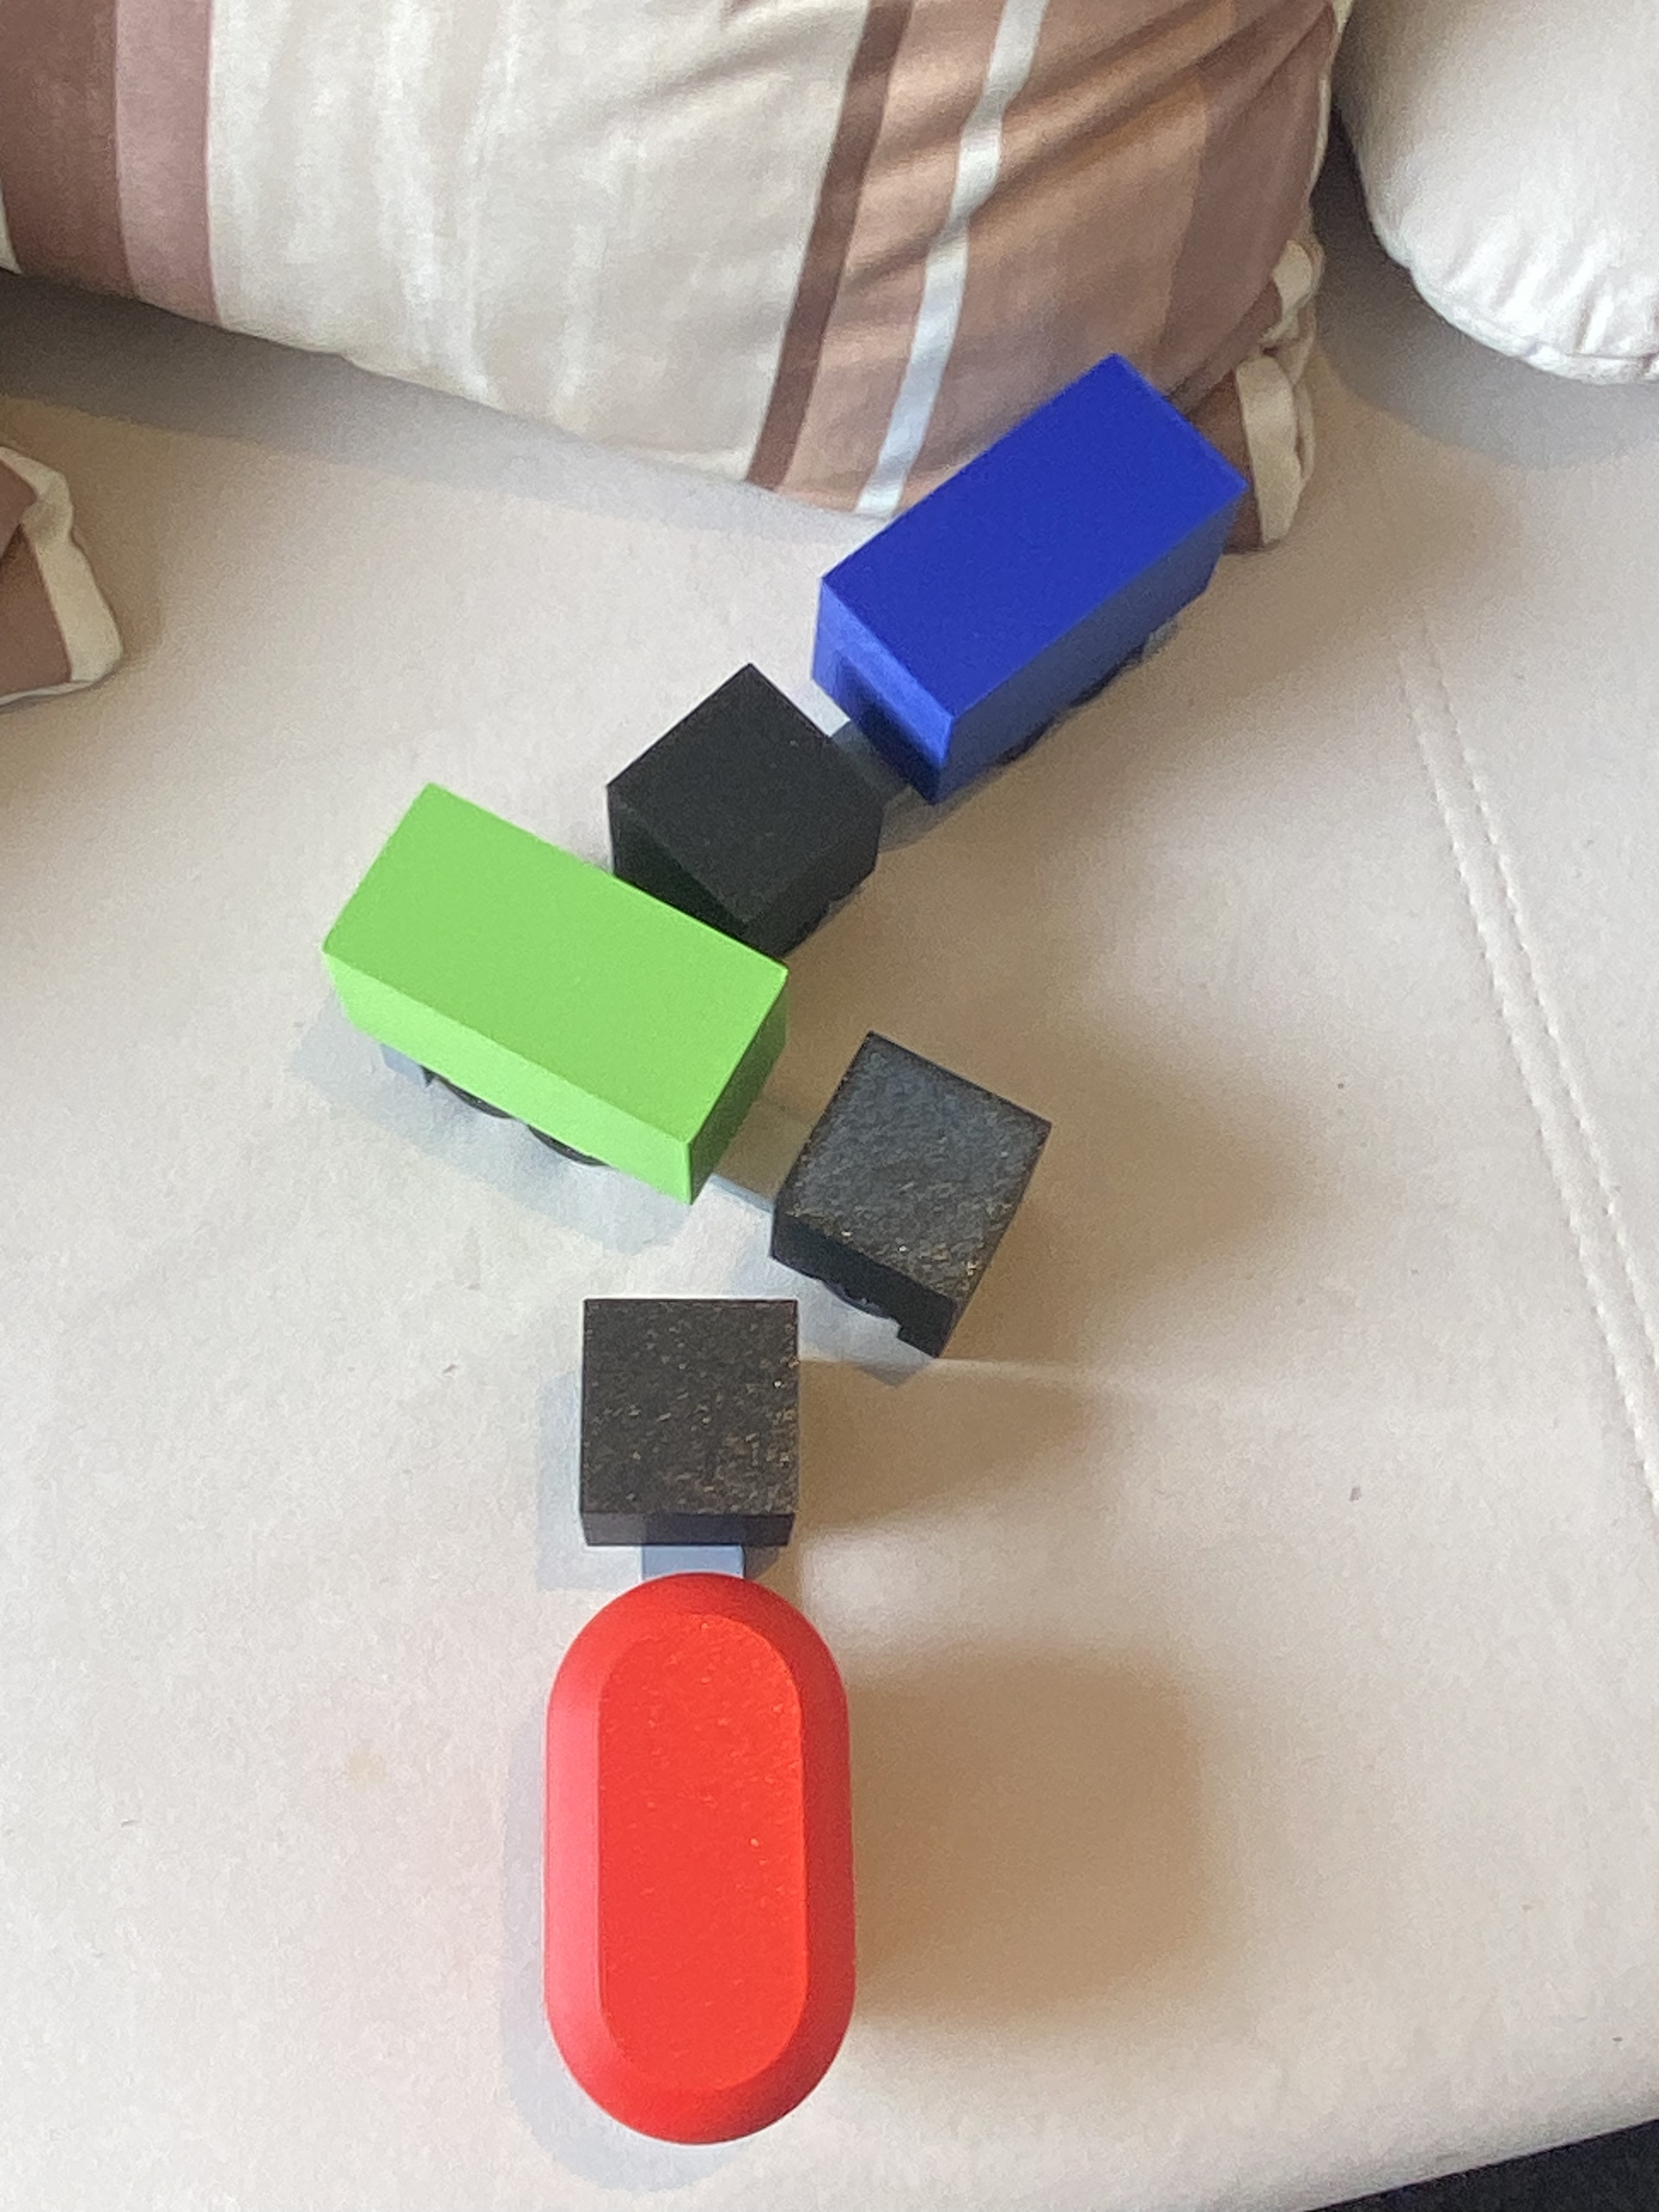blue_truck: (568, 535, 1279, 803)
green_truck: (547, 683, 823, 1428)
red_truck: (532, 1285, 852, 2144)
